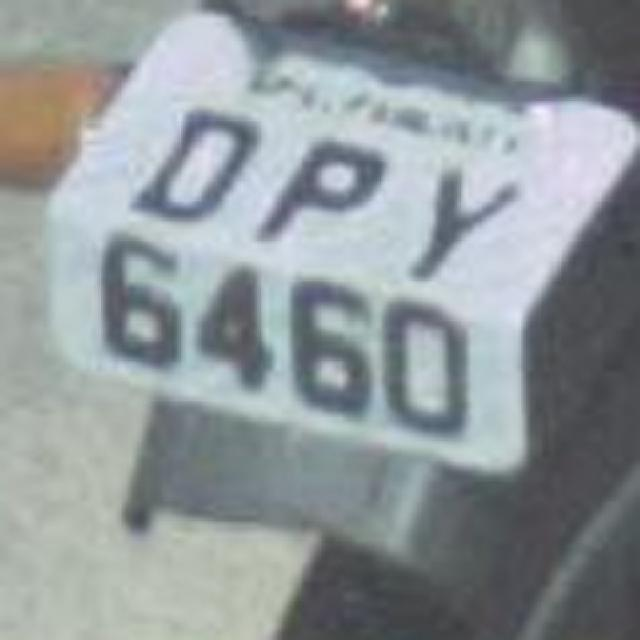0: (360, 284, 495, 444)
4: (169, 240, 296, 408)
6: (268, 256, 392, 429), (76, 232, 204, 368)
O: (120, 88, 268, 240)
P: (249, 124, 396, 264)
Y: (385, 144, 520, 296)
